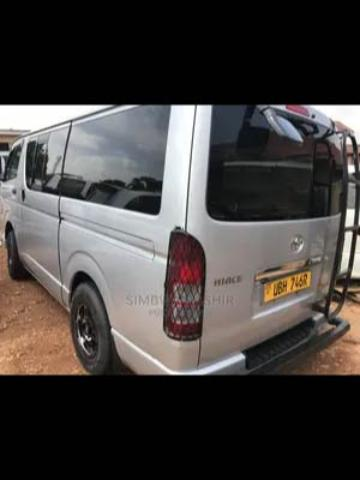van: (0, 107, 356, 368)
